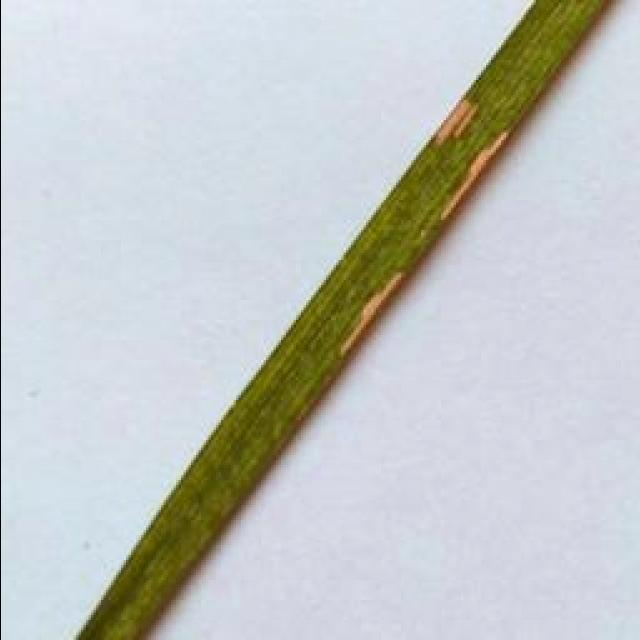Unhealthy: (440, 129, 511, 219), (338, 270, 404, 358), (431, 96, 477, 147)
